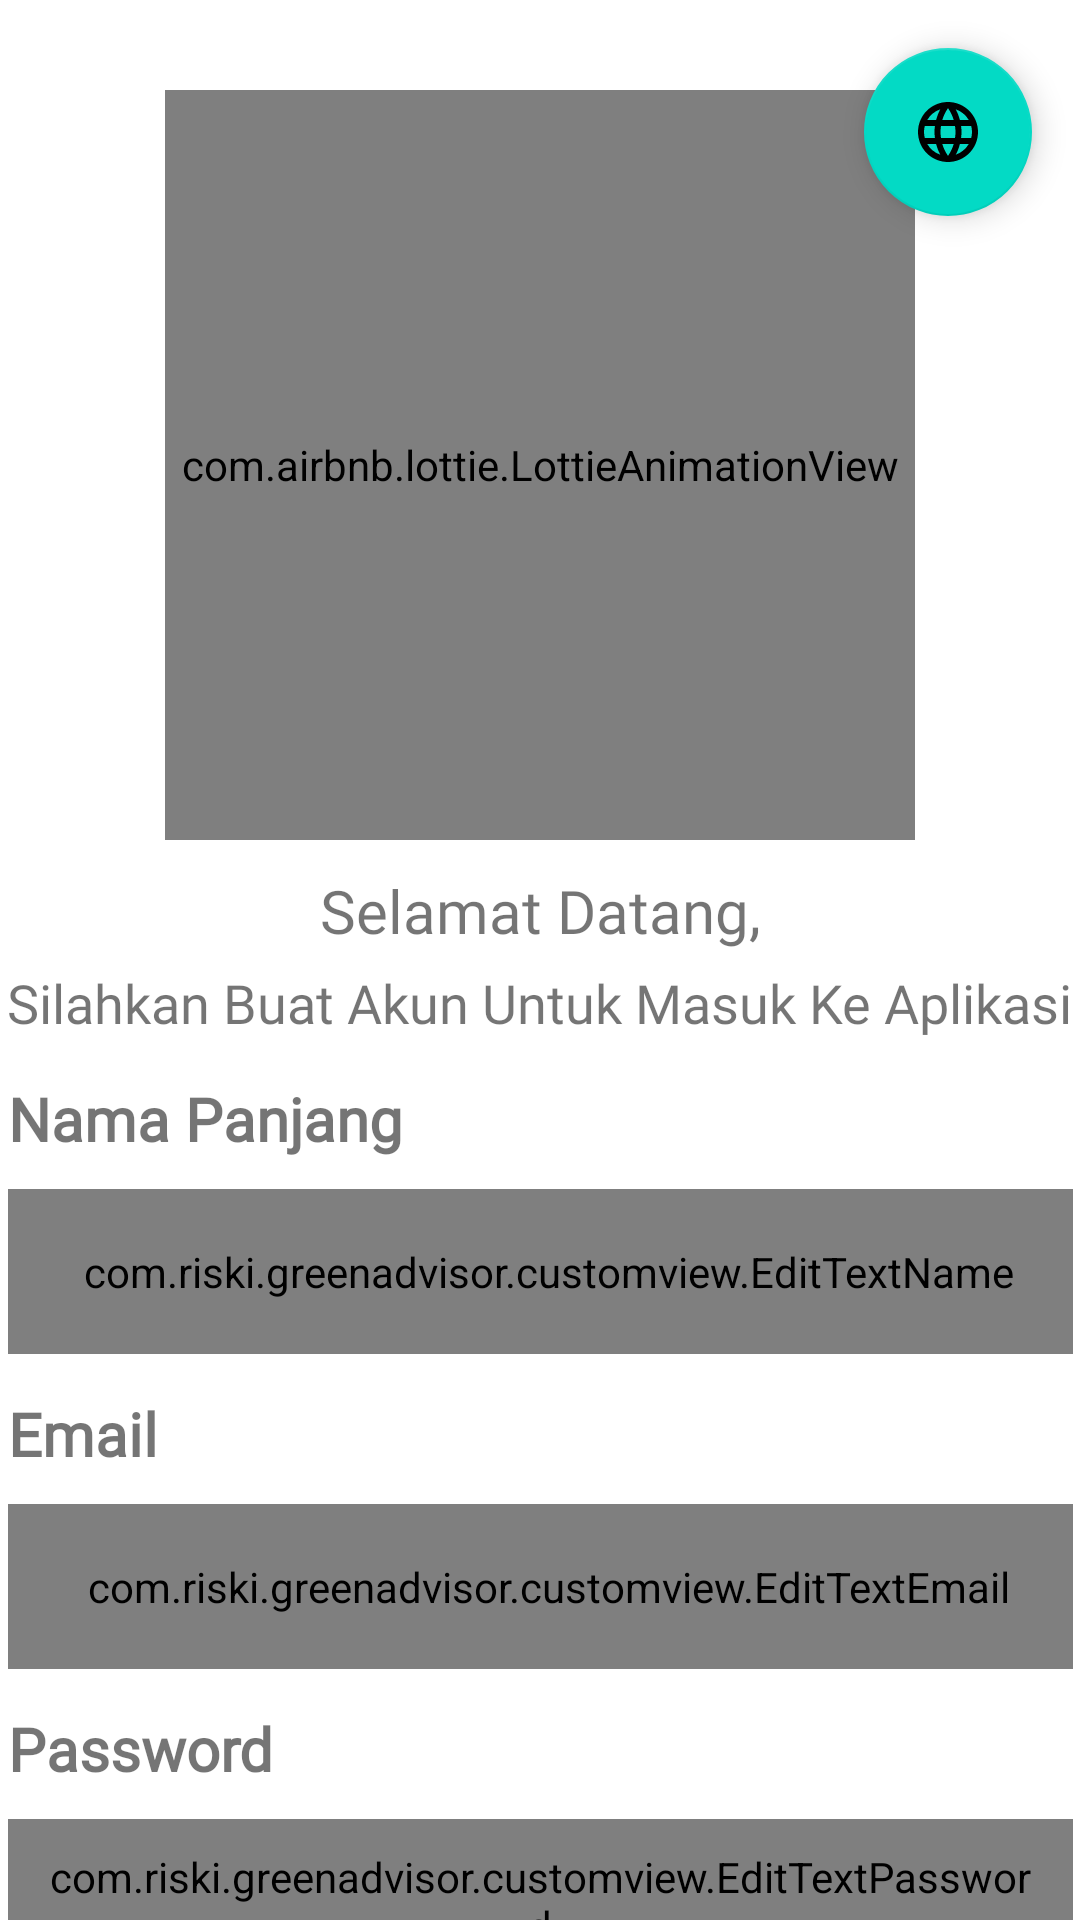

Named icons in this screenshot (1080px×1920px) and their centers, [x,y]:
language: [948,132]
